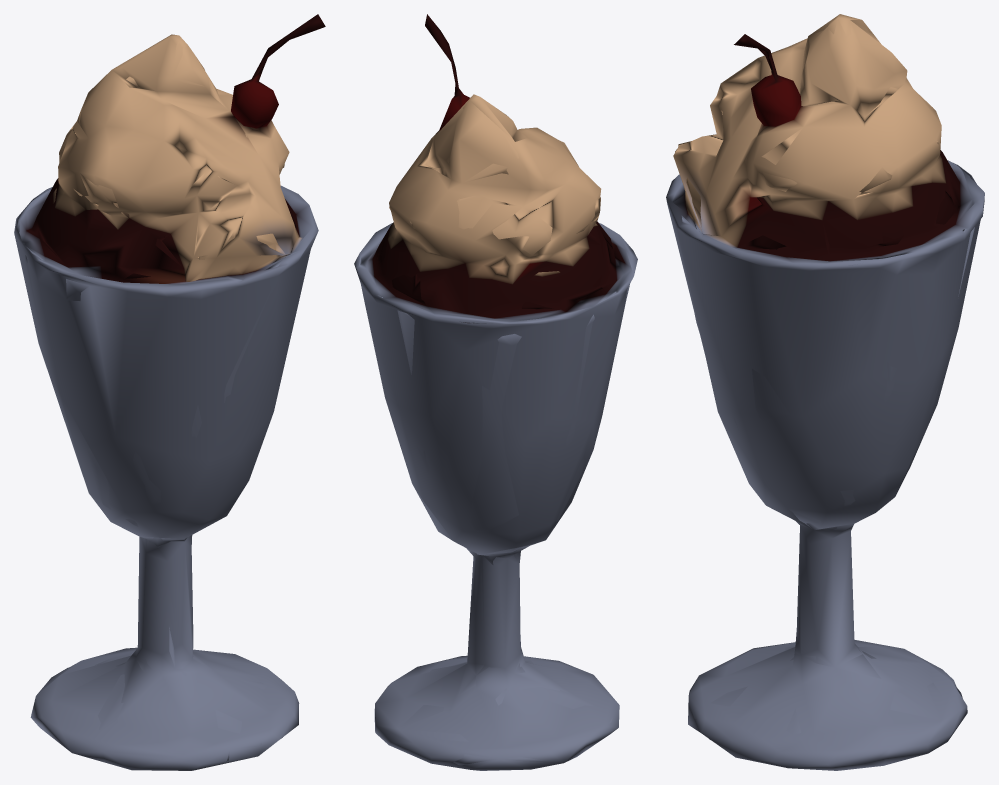
The model's file is gen3d-sundae-lod0.glb.
3 renders of one model, left to right at view 1: azimuth 30°, elevation 25°; view 2: azimuth 150°, elevation 25°; view 3: azimuth 270°, elevation 25°, orthographic. The views are drawn at different scales.
Visible parts, largest first — view 1: part_0; view 2: part_0; view 3: part_0.
Boxes of the visible parts, box(x1,y1,x2,y2) form: part_0: box(14, 14, 325, 770); part_0: box(354, 14, 637, 770); part_0: box(666, 14, 984, 770).
Size of the model in its own units: 0.3932 by 1 by 0.3923.
